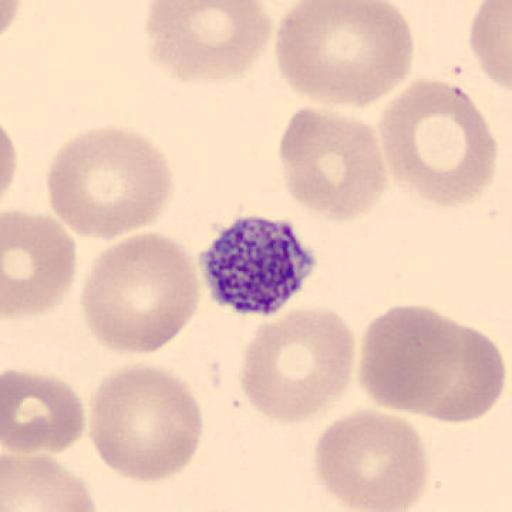Platelet: (196, 212, 320, 318)
RBC: (377, 77, 498, 209), (80, 230, 202, 358), (274, 0, 417, 109), (44, 123, 176, 241), (87, 361, 205, 484), (238, 306, 356, 426), (278, 103, 388, 224), (311, 408, 431, 512), (358, 303, 462, 414), (143, 0, 274, 86), (409, 316, 505, 424), (1, 208, 77, 320), (2, 366, 86, 456), (2, 453, 100, 512), (468, 0, 512, 93), (0, 121, 18, 203), (0, 0, 23, 45)
